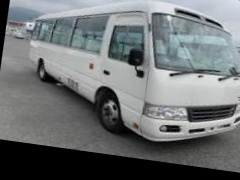bus: (18, 0, 240, 155)
